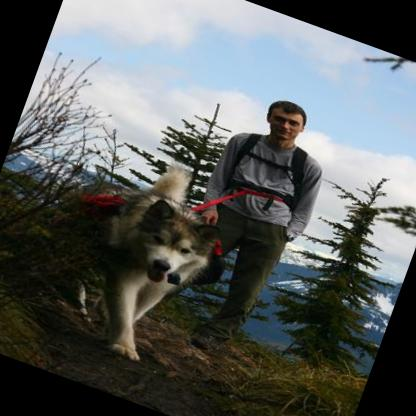malamute: (29, 132, 240, 379)
